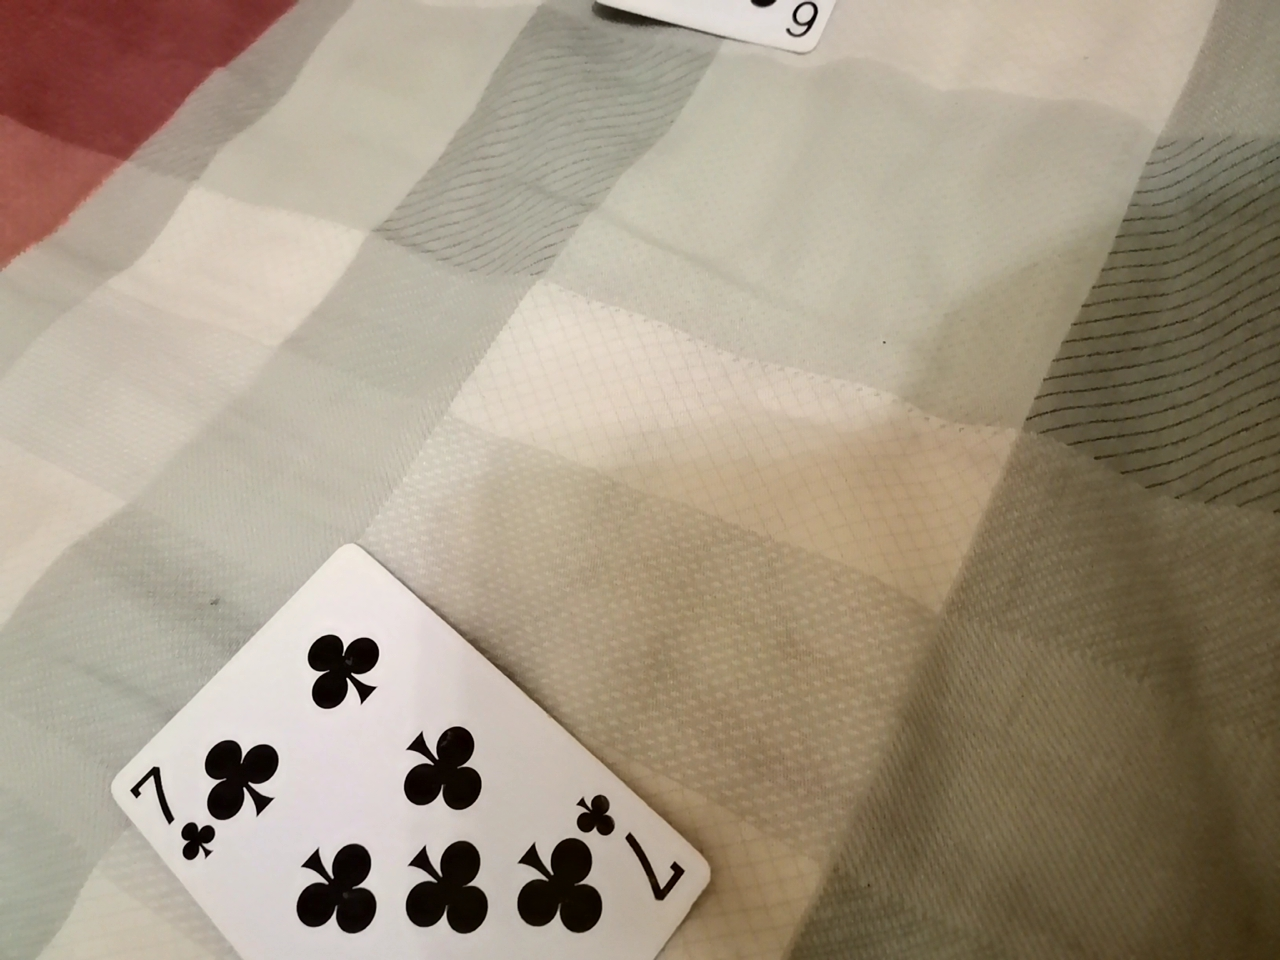mh 7: (103, 560, 707, 953)
